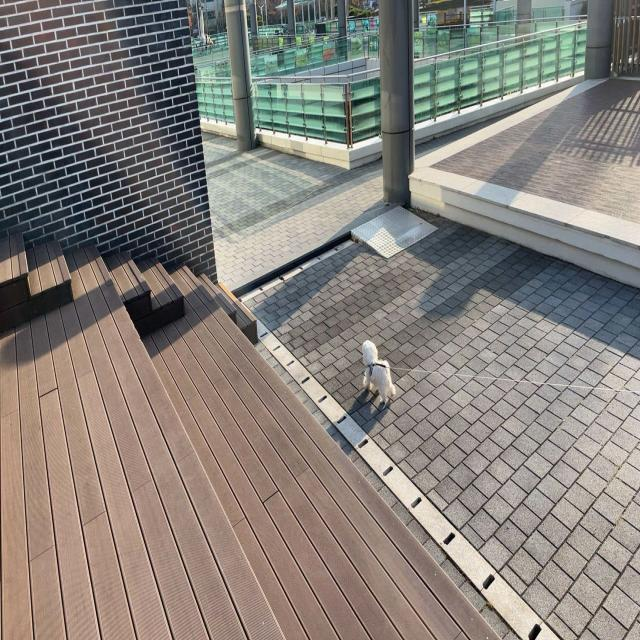Dog: (362, 339, 396, 406)
